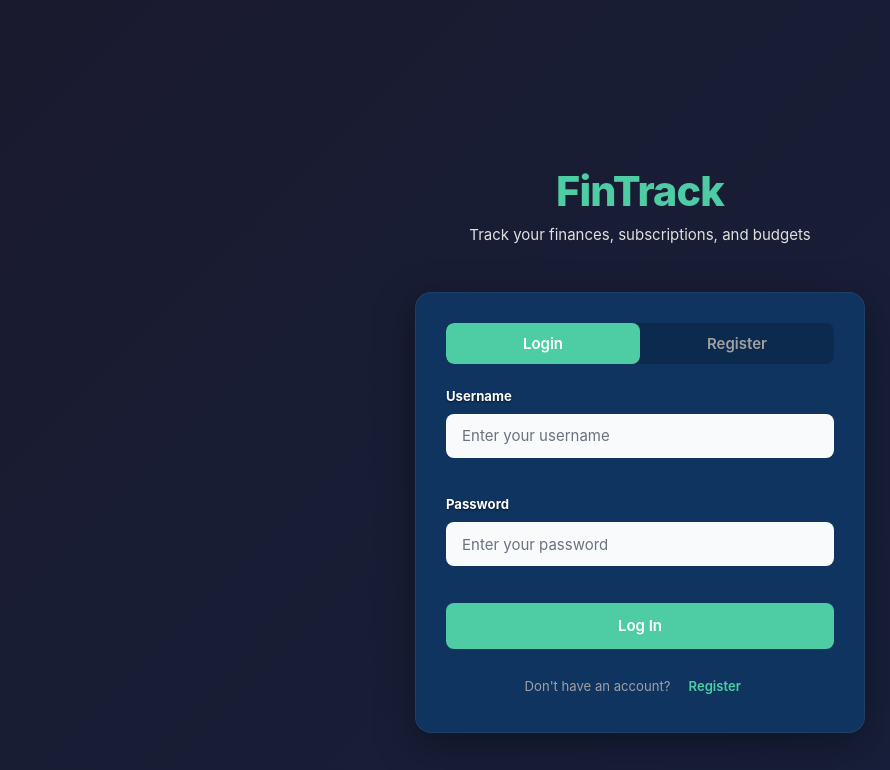
Scenario: Form submission › shows loading state while submitting
The width and height of the screenshot is (890, 770).
Type "alice" into the field labelled "Username" at (640, 436), box [446, 414, 834, 458]
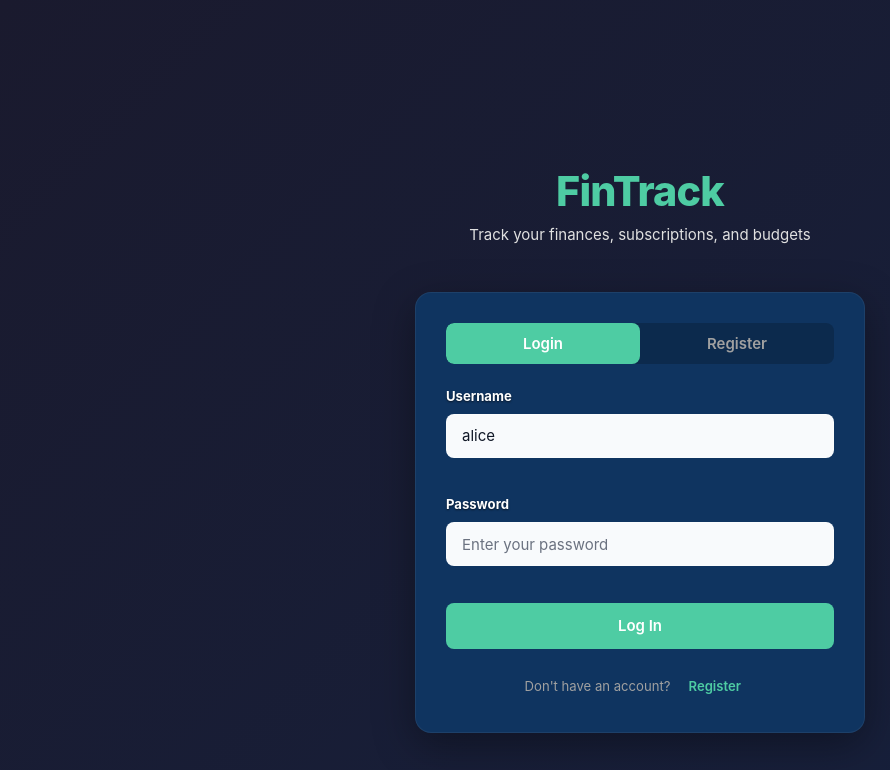
Type "pass" into the password field labelled "Password" at (640, 544), box [446, 522, 834, 566]
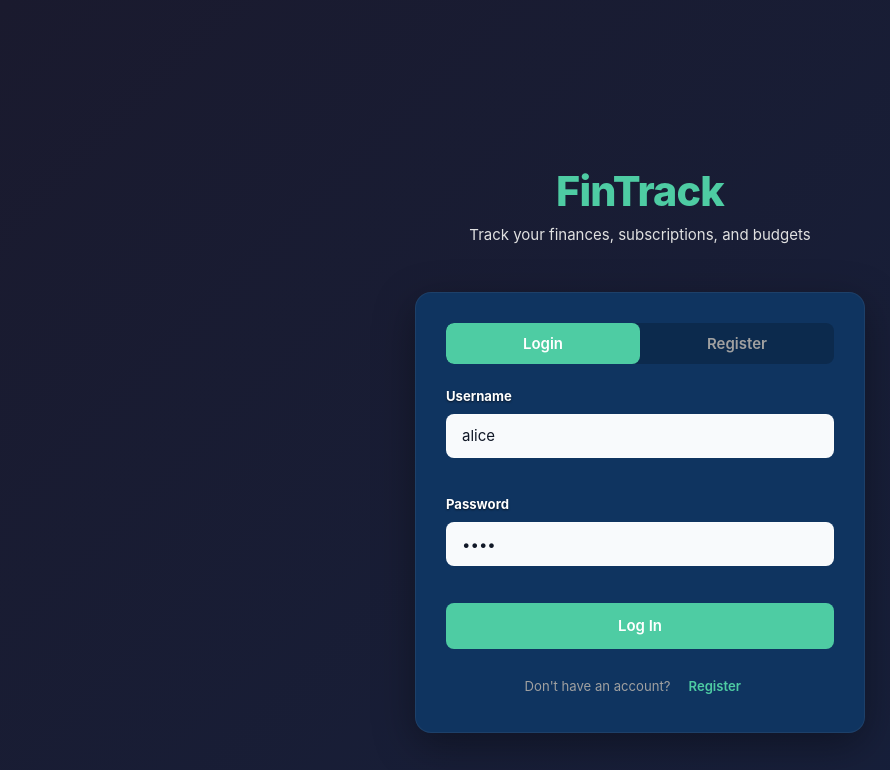
Submit the form from the button "Log In", box [446, 603, 834, 649]
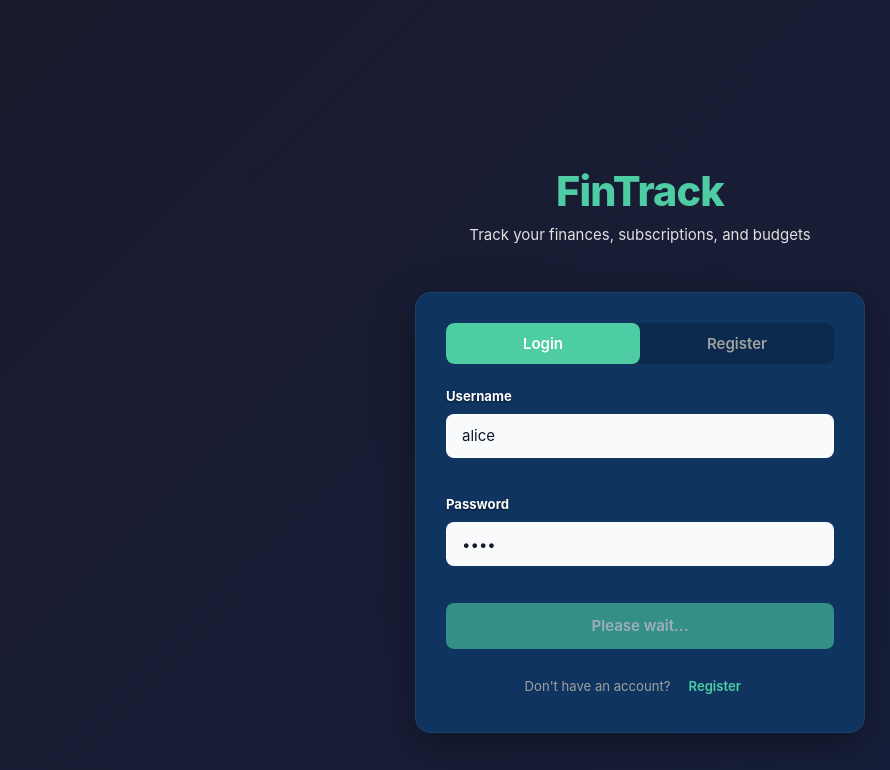
Result: the button "Please wait..." is shown at [446, 603, 834, 649]
